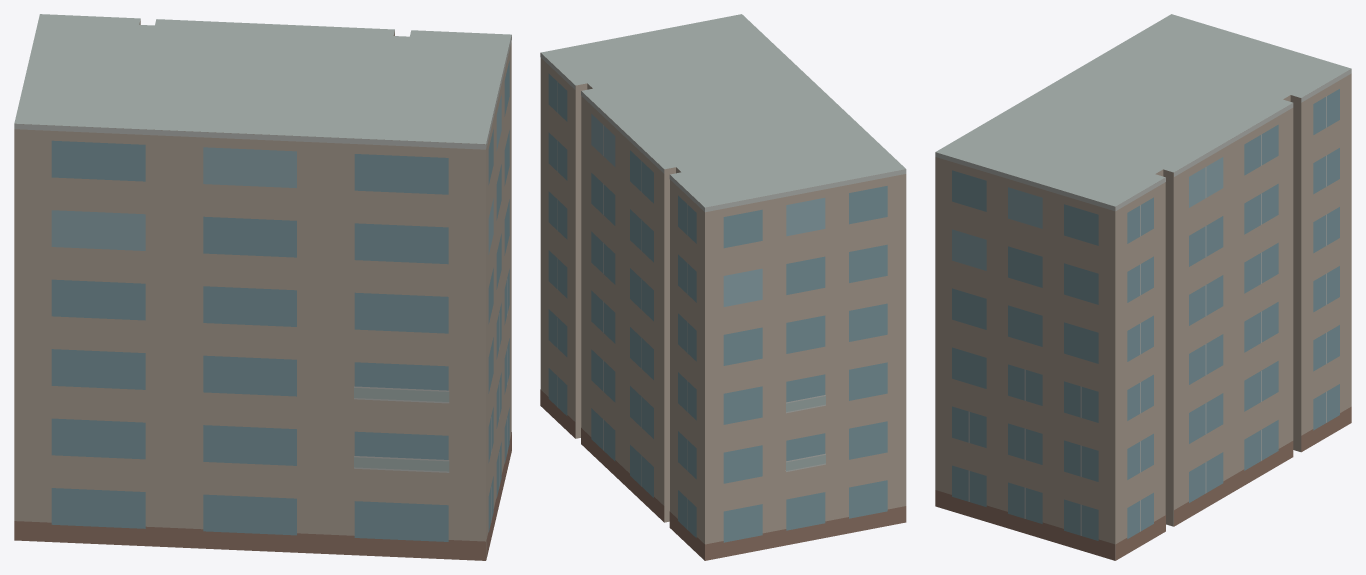
The model's file is survey-upis-32902775.glb.
3 views of the same model, side by side, from view 1: azimuth 30°, elevation 25°; view 2: azimuth 150°, elevation 25°; view 3: azimuth 270°, elevation 25° (orthographic). The views are drawn at different scales.
Visible parts, largest first — view 1: survey-upis-32902775.tmp; view 2: survey-upis-32902775.tmp; view 3: survey-upis-32902775.tmp.
Part boxes in pixels (bbox=[...]): survey-upis-32902775.tmp: bbox=[14, 14, 511, 560]; survey-upis-32902775.tmp: bbox=[540, 14, 906, 560]; survey-upis-32902775.tmp: bbox=[935, 14, 1351, 560].
Size of the model in its own units: 21.35 by 18.3 by 19.5.
